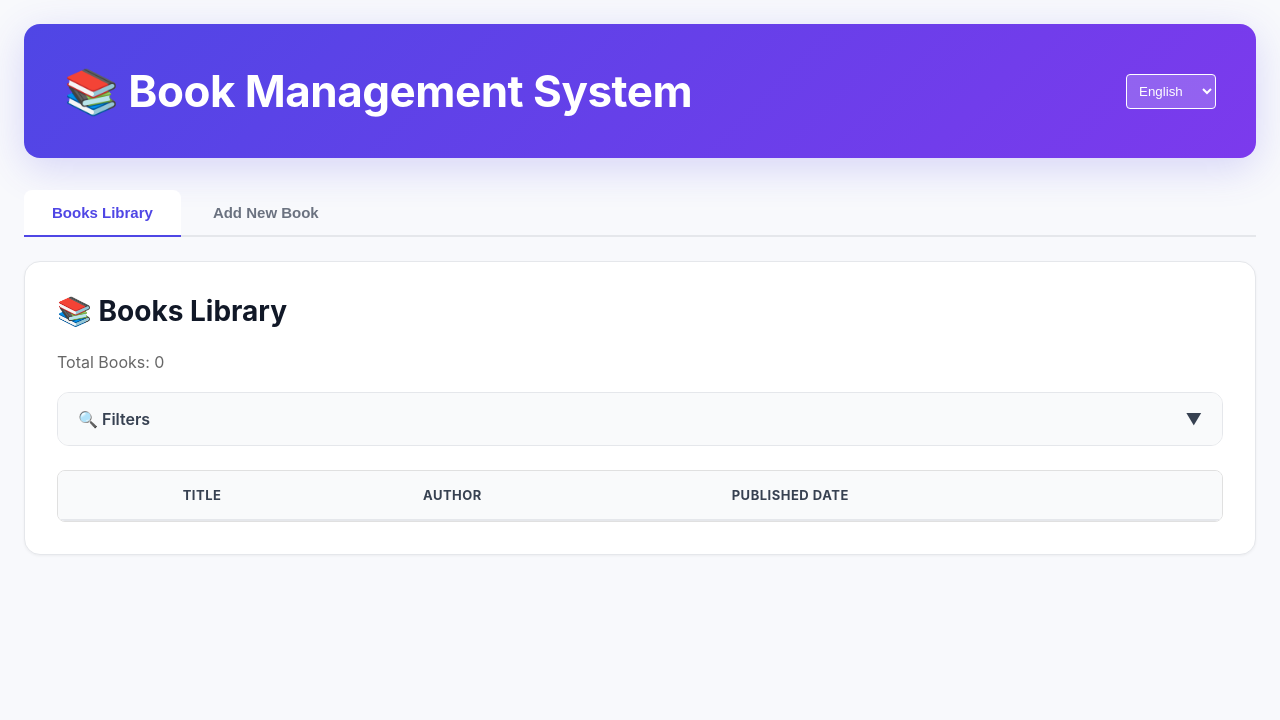
App Component › switches to add book tab
Click the button with test id "add-tab": coordinates (266, 212) x1=185 y1=190 x2=347 y2=235
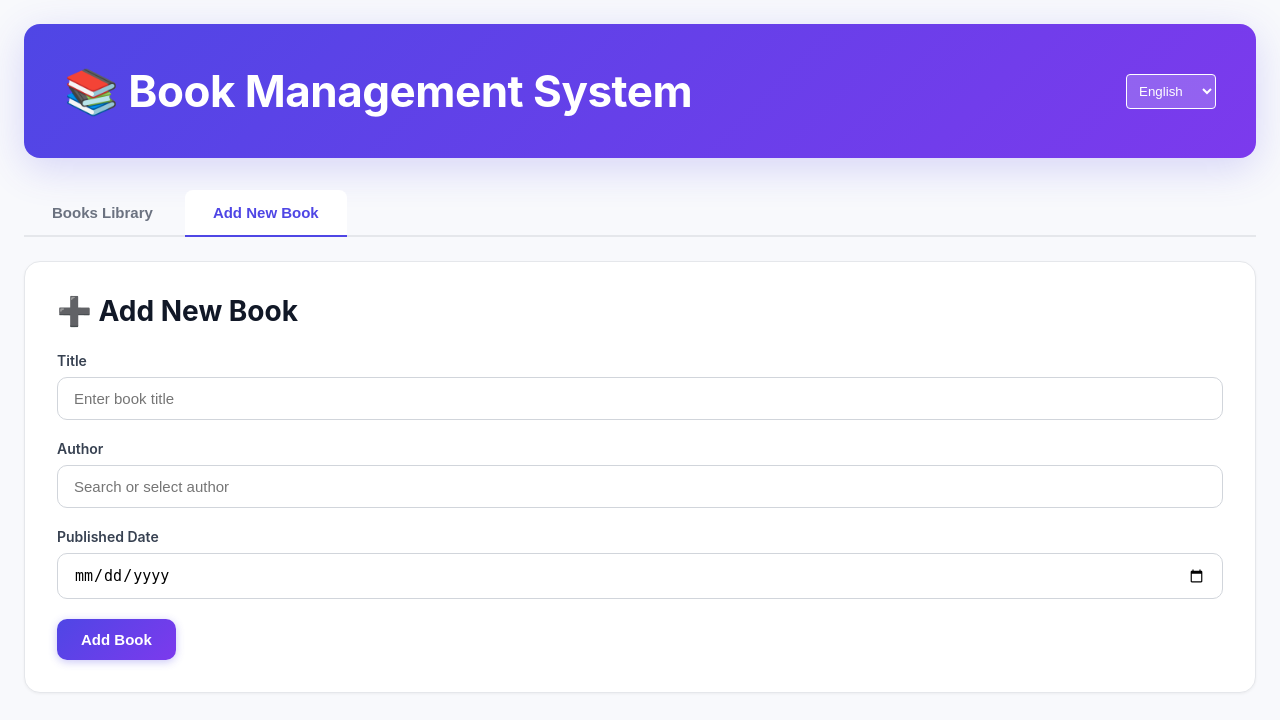
Expected: the element with test id "add-book-form" is shown, x1=24 y1=261 x2=1256 y2=693
